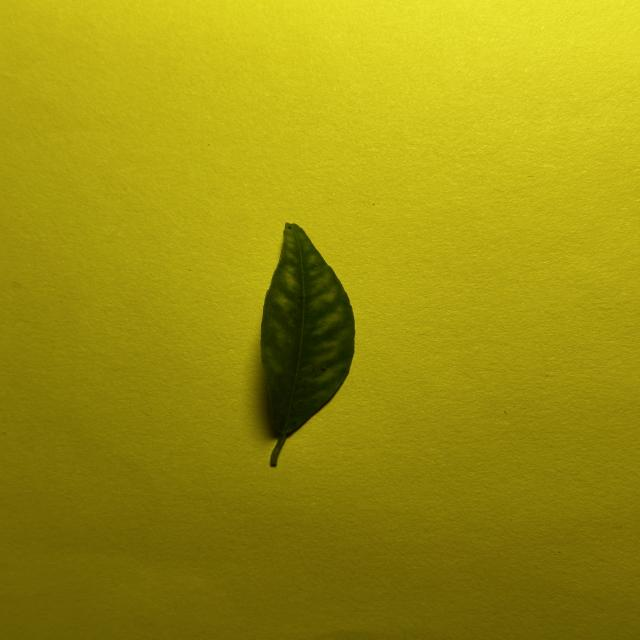greening: (261, 223, 355, 466)
